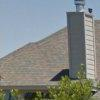Chimney: (61, 4, 100, 78)
